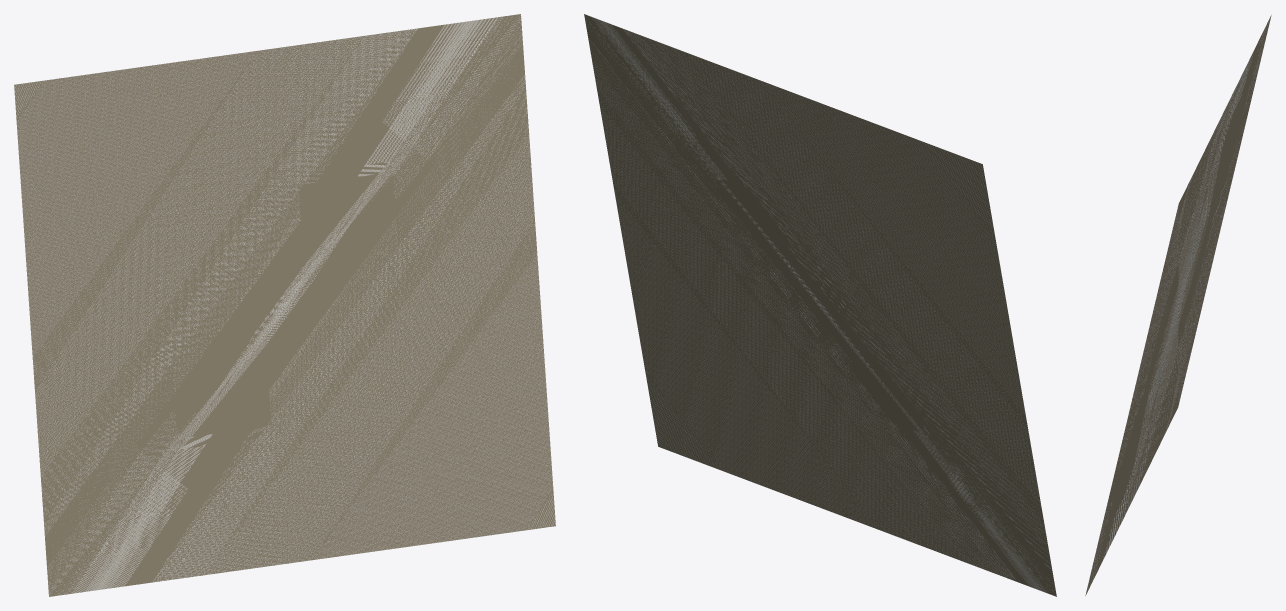
The model's file is 大本钟43.dae.
3 views of the same model, side by side, from view 1: azimuth 30°, elevation 25°; view 2: azimuth 150°, elevation 25°; view 3: azimuth 270°, elevation 25° (orthographic). The views are drawn at different scales.
Parts seen in each view (by area): view 1: SketchUp; view 2: SketchUp; view 3: SketchUp.
Part boxes in pixels (x1,y1,x2,y2): SketchUp: [14, 14, 555, 596]; SketchUp: [584, 14, 1056, 596]; SketchUp: [1085, 15, 1271, 595].
Bounding box in the file's own units: 40.8 × 16.26 × 38.6.
